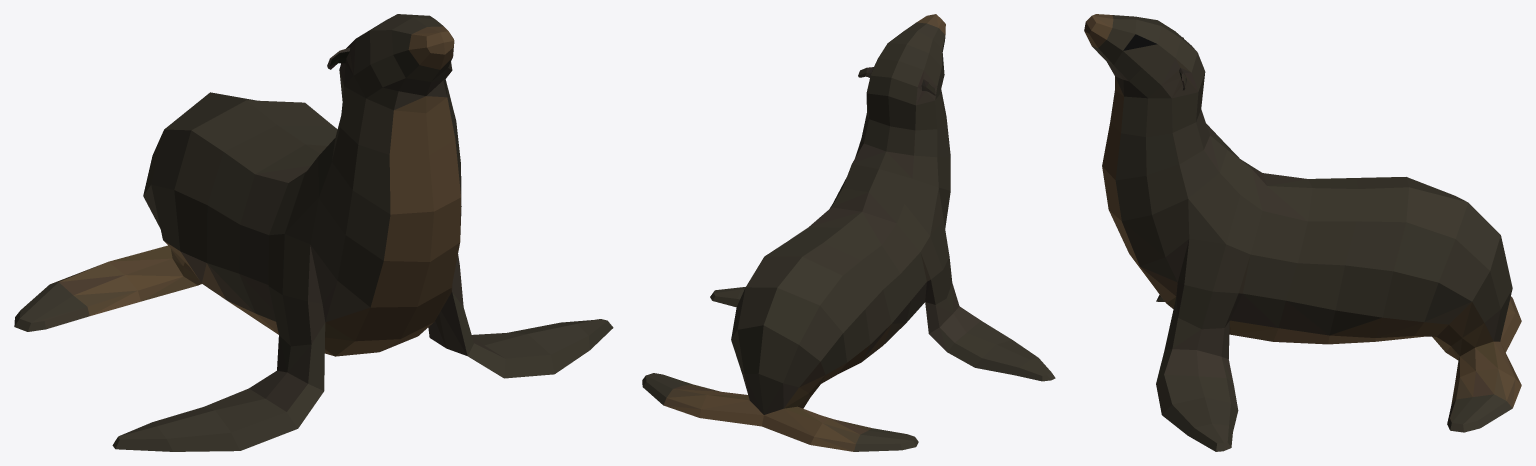
The model's file is sealion.glb.
The picture shows the model from 3 angles, left to right: view 1: azimuth 30°, elevation 25°; view 2: azimuth 150°, elevation 25°; view 3: azimuth 270°, elevation 25°; orthographic projection. The views are drawn at different scales.
Visible parts, largest first — view 1: SeaLion_Mesh; view 2: SeaLion_Mesh; view 3: SeaLion_Mesh.
Part boxes in pixels (left/top/right/bottom): SeaLion_Mesh: left=14, top=14, right=613, bottom=451; SeaLion_Mesh: left=642, top=14, right=1055, bottom=451; SeaLion_Mesh: left=1084, top=14, right=1521, bottom=451.
Size of the model in its own units: 9.53 by 7.54 by 8.86.
